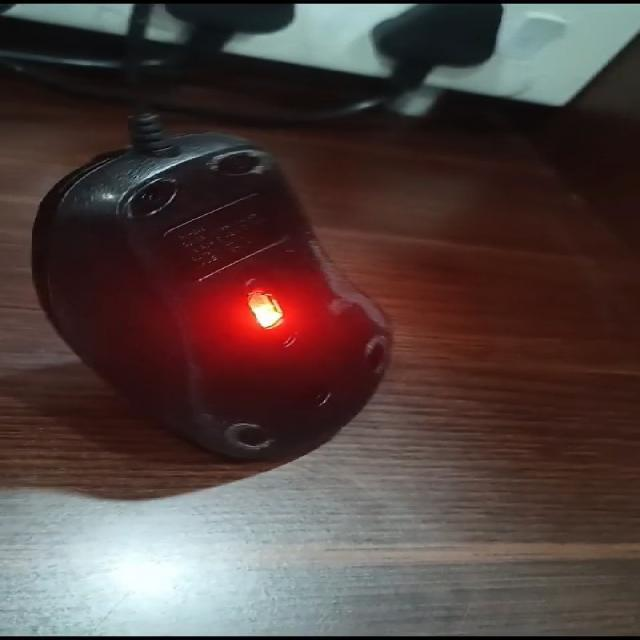Mouse: (0, 74, 522, 537)
